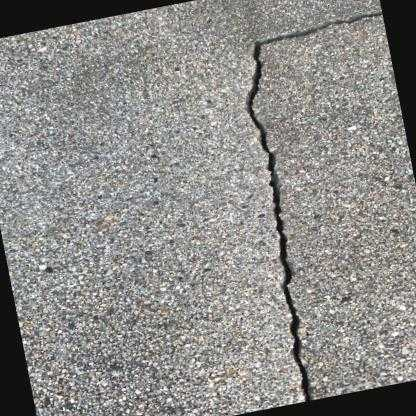crack: (242, 9, 382, 401)
